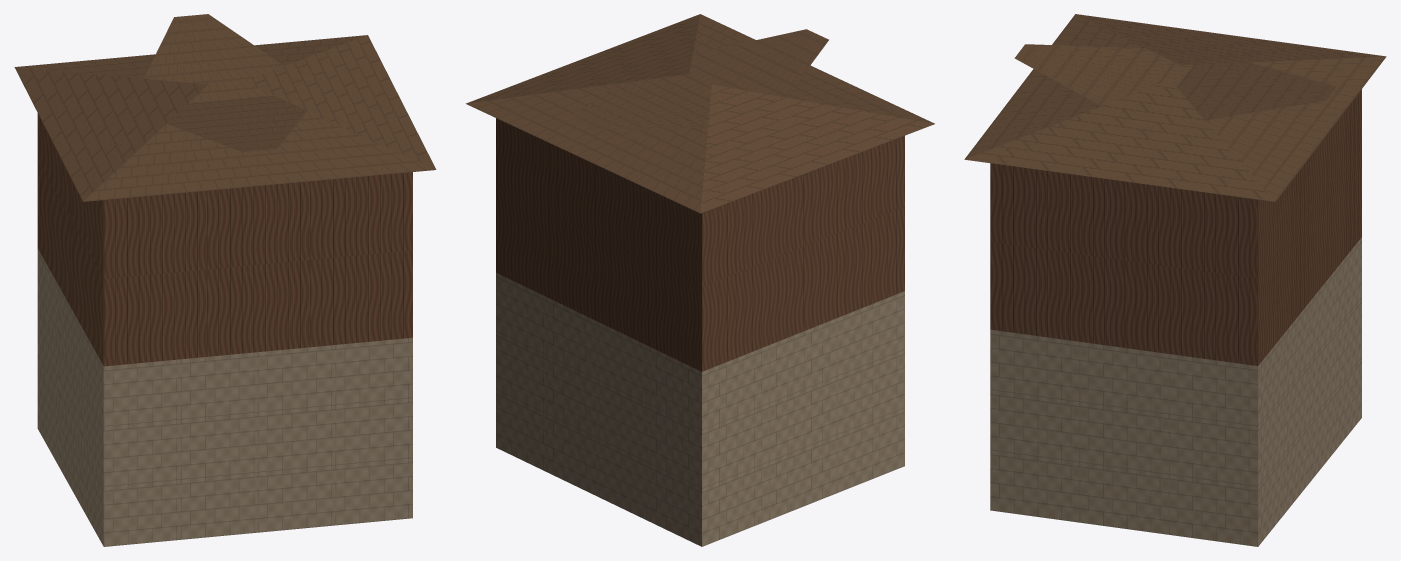
File: bld_c9_7_502.gltf
3 views of the same model, side by side, from view 1: azimuth 30°, elevation 25°; view 2: azimuth 150°, elevation 25°; view 3: azimuth 270°, elevation 25° (orthographic). The views are drawn at different scales.
Parts seen in each view (by area): view 1: bld_c9_7_502; view 2: bld_c9_7_502; view 3: bld_c9_7_502.
Part boxes in pixels (x1,y1,x2,y2): bld_c9_7_502: (14, 14, 436, 546); bld_c9_7_502: (466, 14, 934, 546); bld_c9_7_502: (964, 14, 1386, 546).
Bounding box in the file's own units: 11.33 × 11 × 10.76.
Materials: 3 (3 with a texture image).
